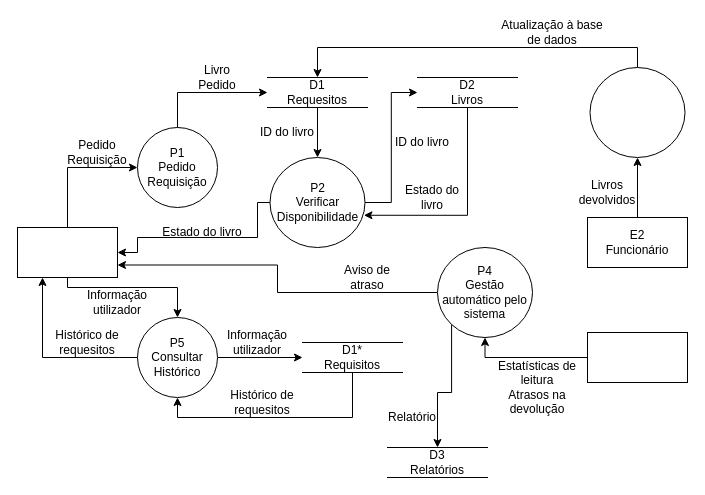
The diagram is 705 pixels wide and 495 high, and some of its shapes have lost their labels. Each missing label, with the box of its shape:
E1 Leitor: (16, 226, 118, 278)
E3 Sistema: (586, 332, 688, 382)
P3 Atualizar Disponibilidade Livros: (589, 66, 685, 158)
